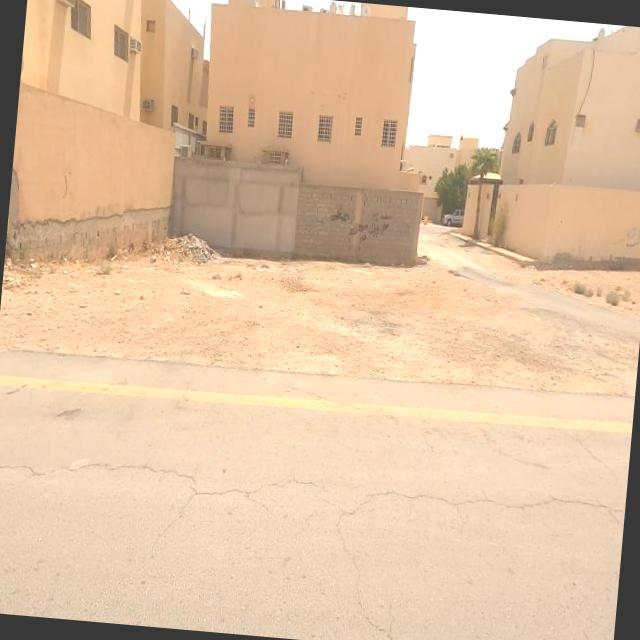debris: (296, 164, 390, 279), (346, 175, 417, 282)
